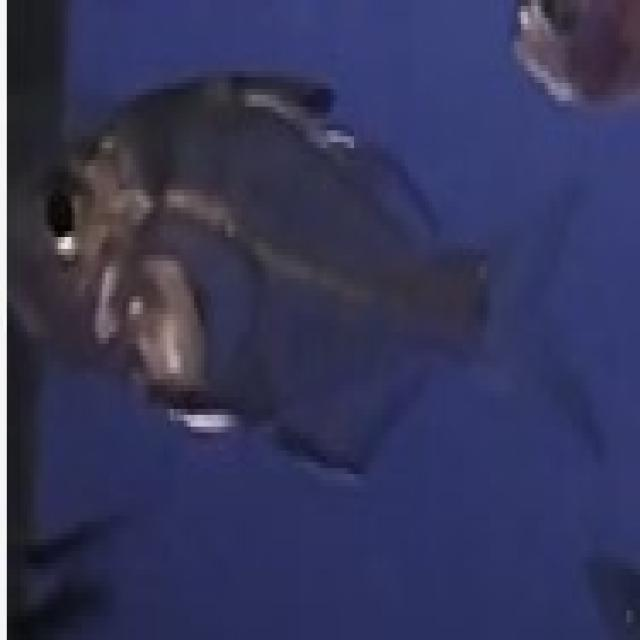Glass-Perchlet: (18, 69, 520, 552)
